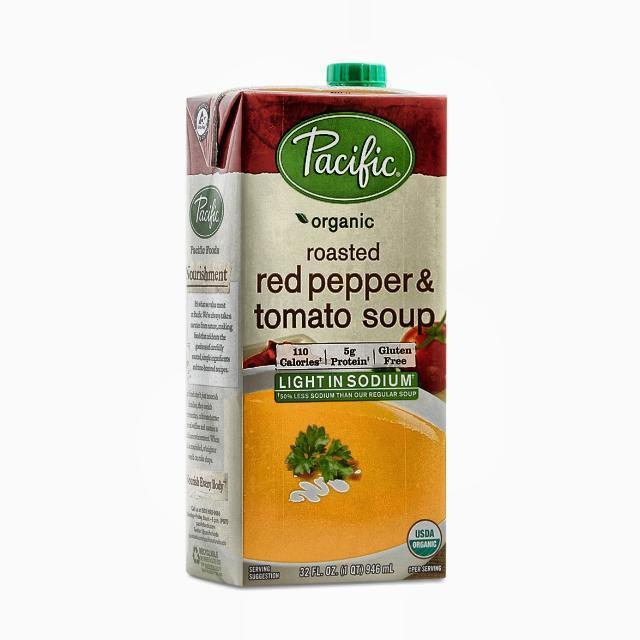cardboard: (184, 77, 448, 586)
